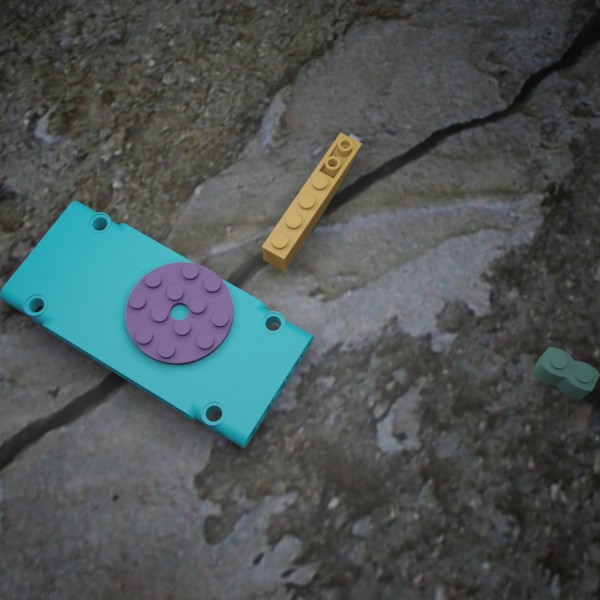lego: (0, 201, 313, 448), (261, 132, 362, 271), (125, 262, 235, 372), (531, 347, 600, 399)
